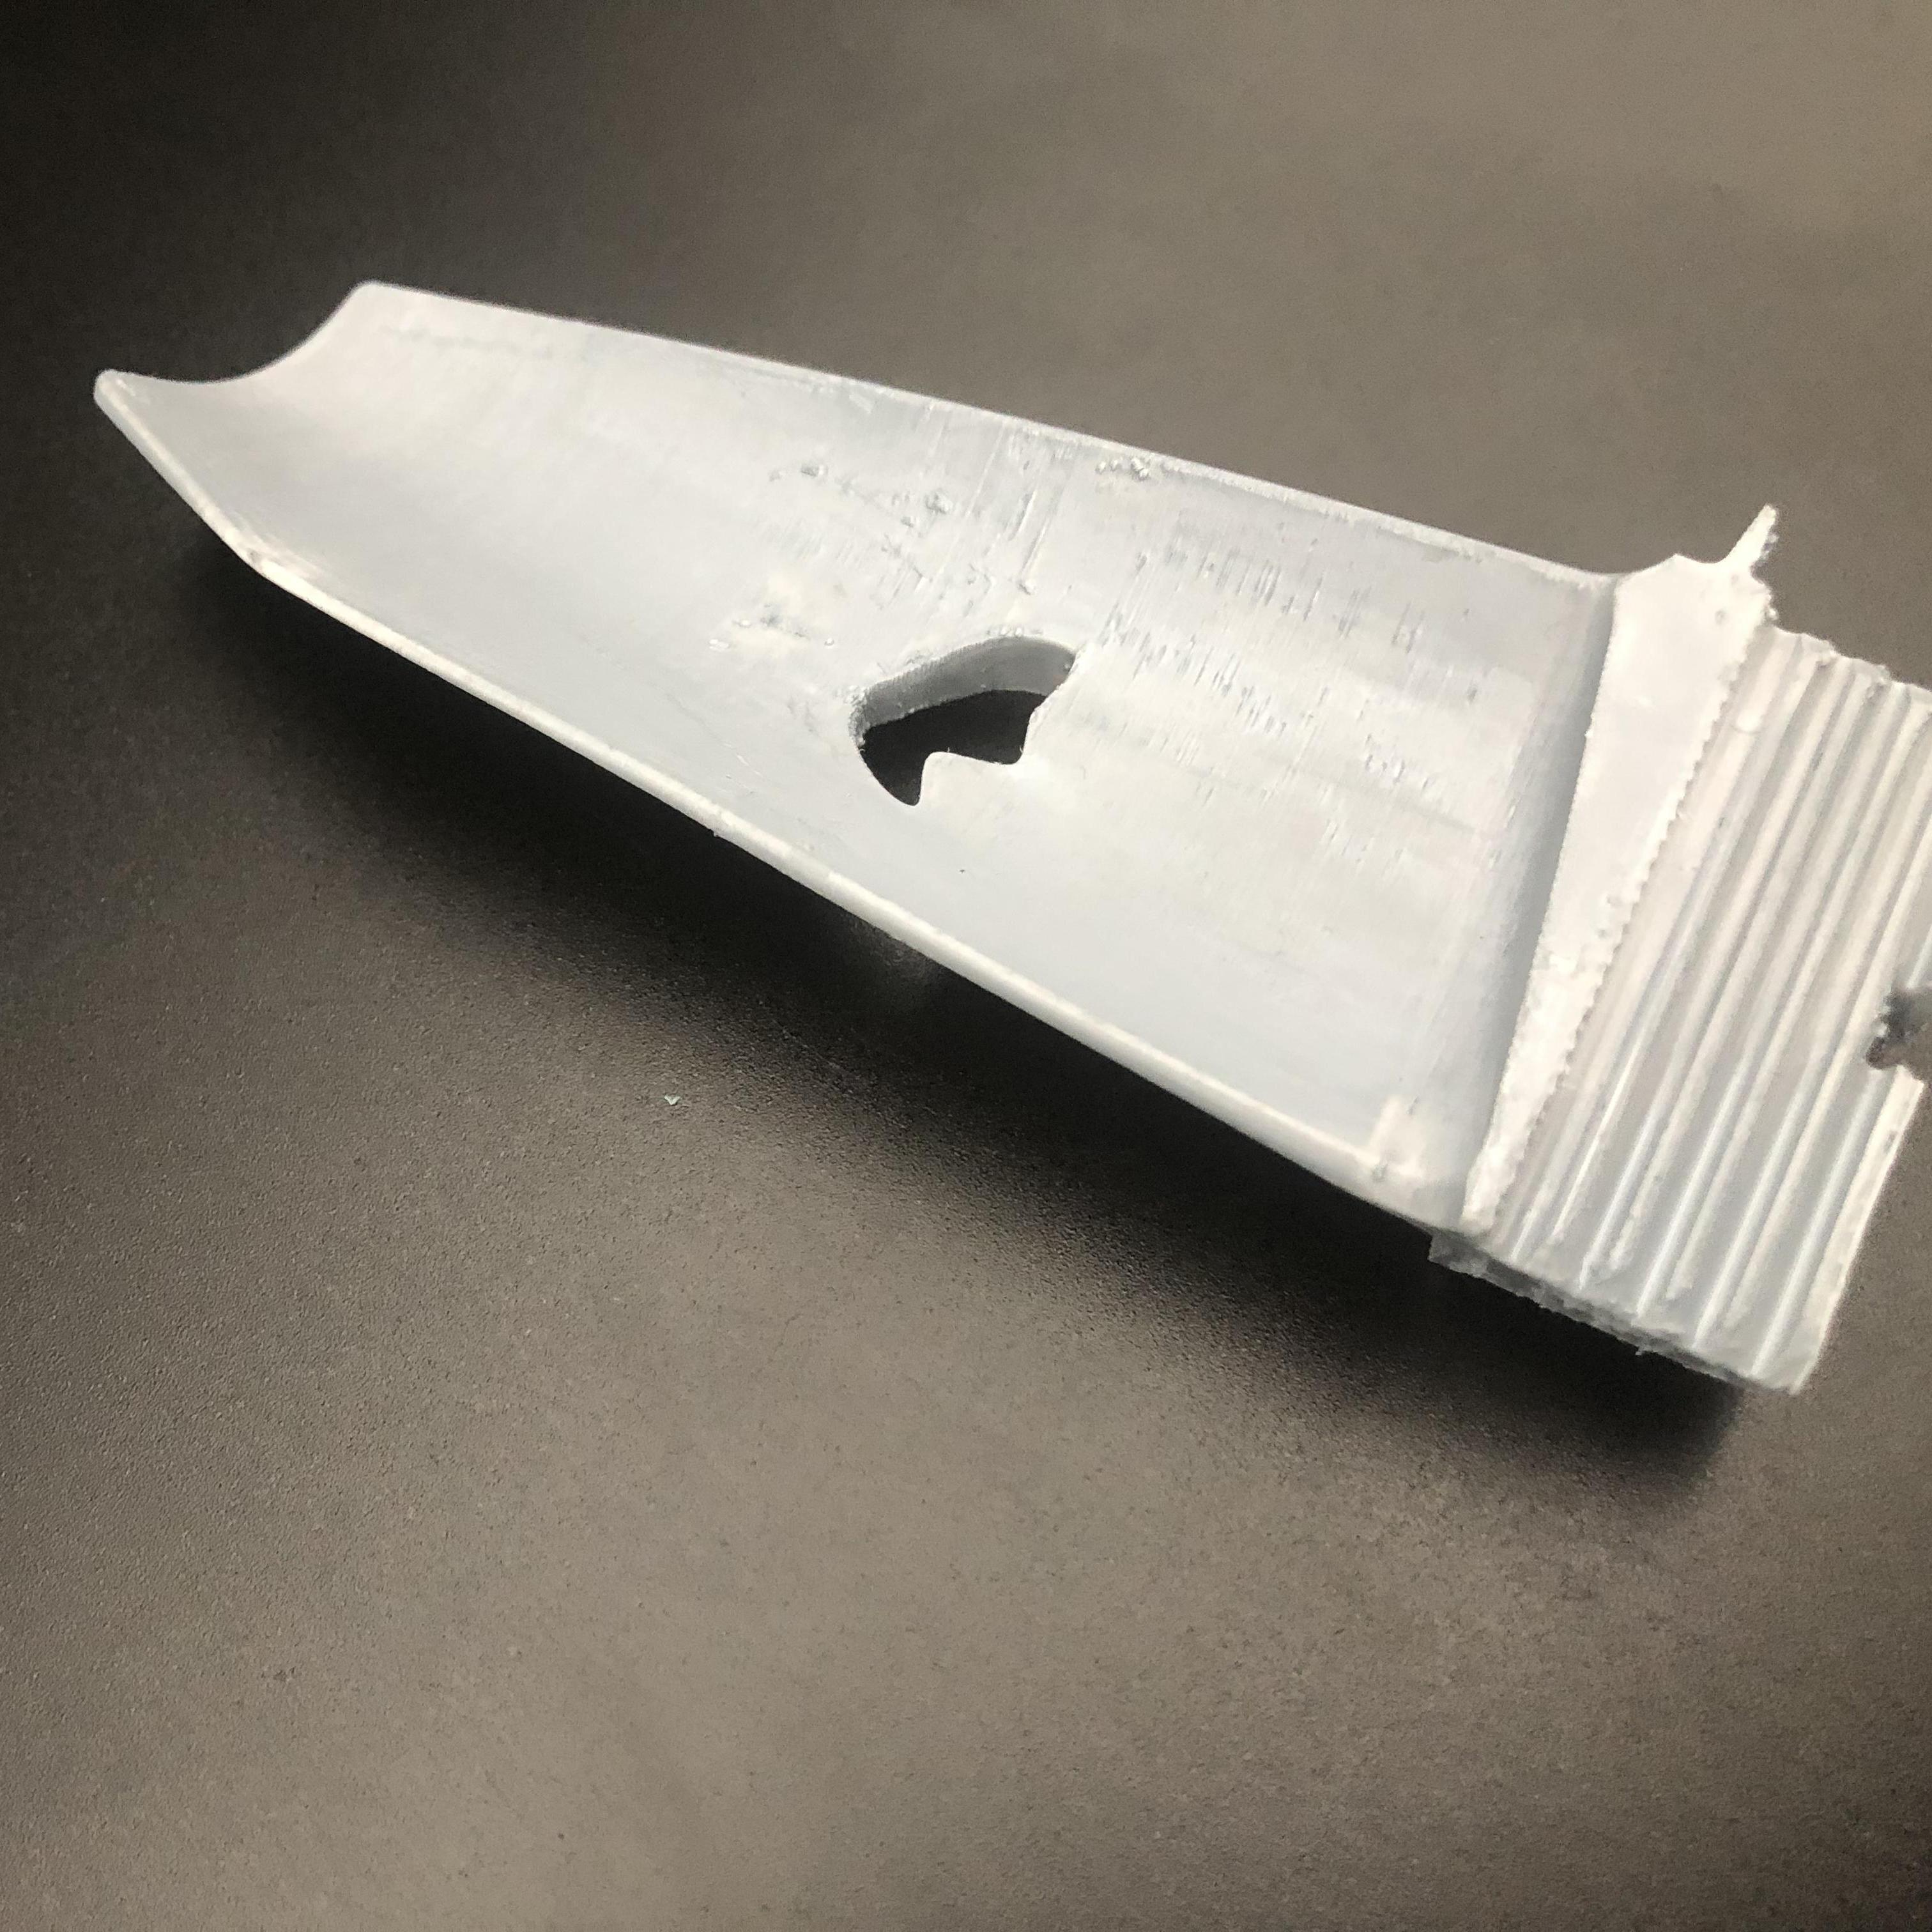breakdown: (832, 609, 1079, 824)
